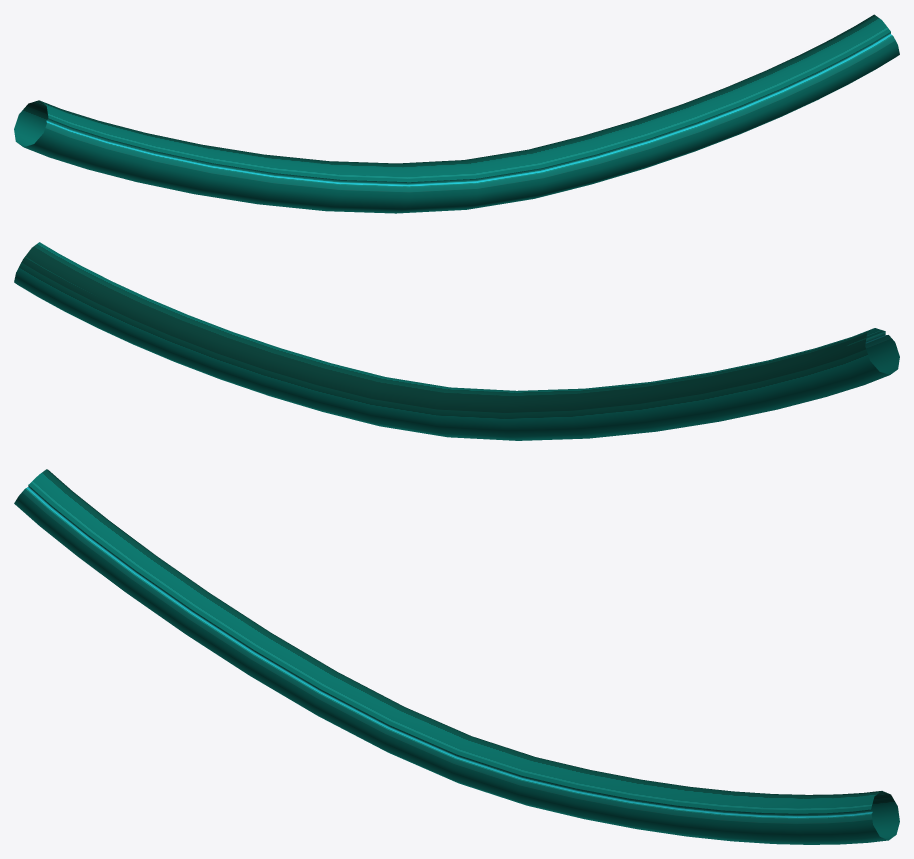
Rendered from SM_Wire_Bigger_Blue.fbx.
3 views of the same model, one above another, from view 1: azimuth 30°, elevation 25°; view 2: azimuth 150°, elevation 25°; view 3: azimuth 330°, elevation 25° (orthographic).
Visible parts, largest first — view 1: Sm_Wire_Bigger_Blue; view 2: Sm_Wire_Bigger_Blue; view 3: Sm_Wire_Bigger_Blue.
Boxes of the visible parts, bbox=[...] form: Sm_Wire_Bigger_Blue: bbox=[14, 14, 899, 213]; Sm_Wire_Bigger_Blue: bbox=[14, 242, 899, 440]; Sm_Wire_Bigger_Blue: bbox=[14, 469, 899, 844].
Bounding box in the file's own units: 10.34 × 2.23 × 44.59.
Materials: 1 (1 with a texture image).
